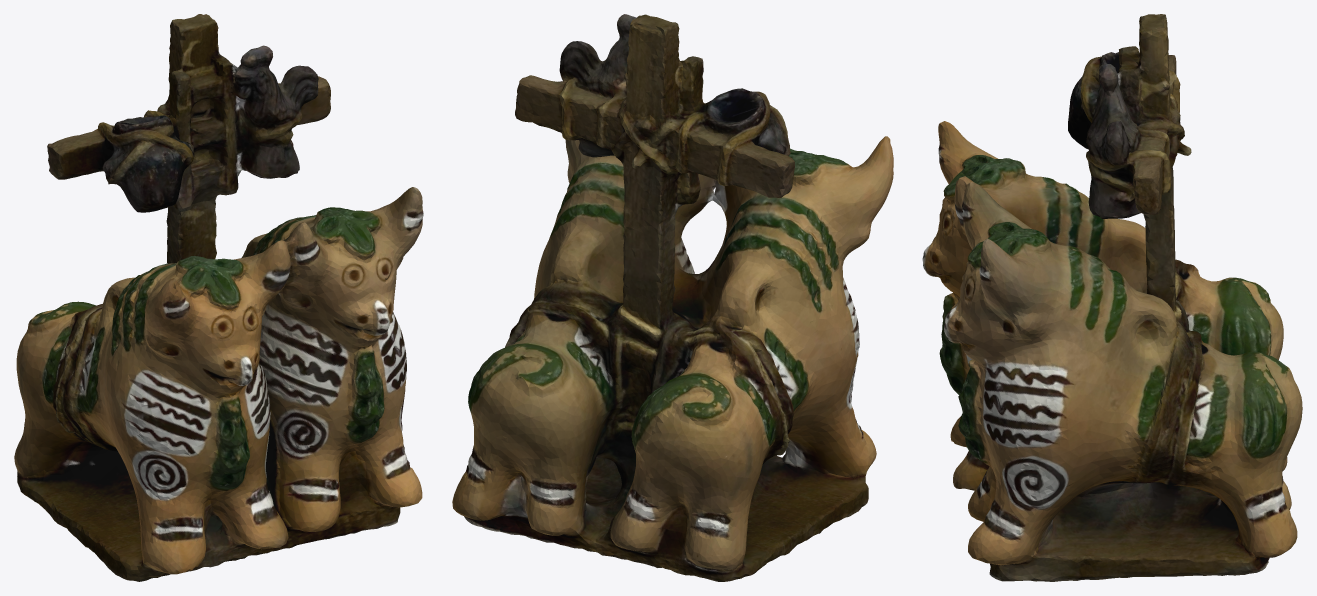
File: toritos-ios.glb
3 views of the same model, side by side, from view 1: azimuth 30°, elevation 25°; view 2: azimuth 150°, elevation 25°; view 3: azimuth 270°, elevation 25° (orthographic). The views are drawn at different scales.
Visible parts, largest first — view 1: toritos-ios; view 2: toritos-ios; view 3: toritos-ios.
Part boxes in pixels (<box>): toritos-ios: <box>14,14,423,581</box>; toritos-ios: <box>452,14,893,581</box>; toritos-ios: <box>922,14,1302,581</box>.
Size of the model in its own units: 0.477 by 0.7467 by 0.5195.
1 material, 1 textured.
